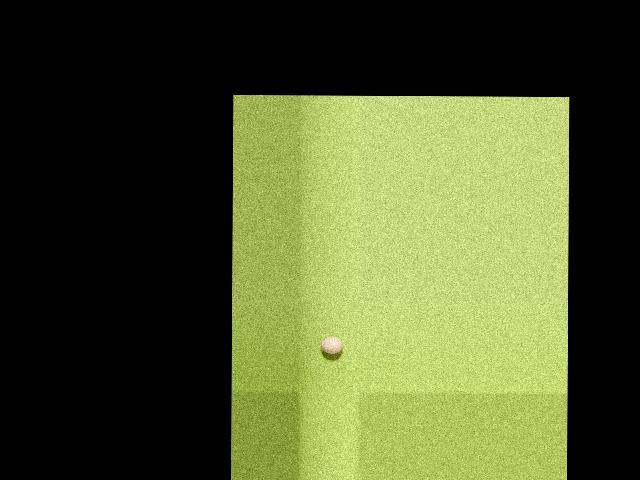egg: (320, 337, 342, 354)
